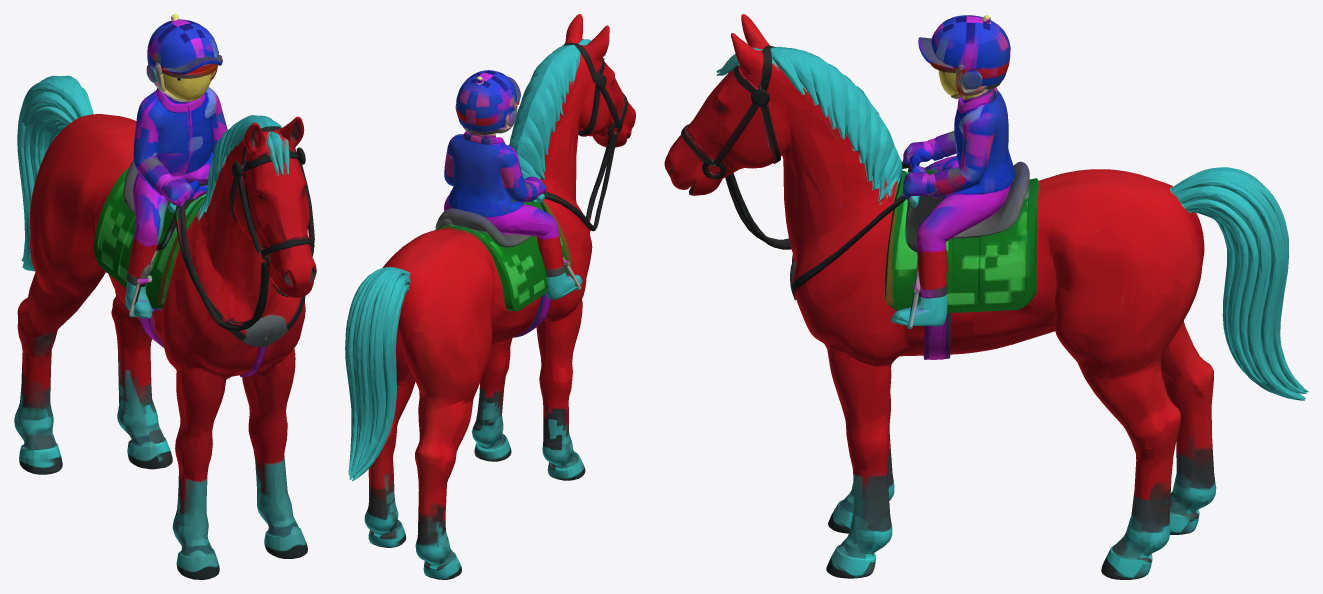
File: meshy-esguio-chamas.glb
3 renders of one model, left to right at view 1: azimuth 30°, elevation 25°; view 2: azimuth 150°, elevation 25°; view 3: azimuth 270°, elevation 25°, orthographic. The views are drawn at different scales.
Size of the model in its own units: 0.5909 by 1.74 by 1.9.
Materials: 1 (1 with a texture image).
